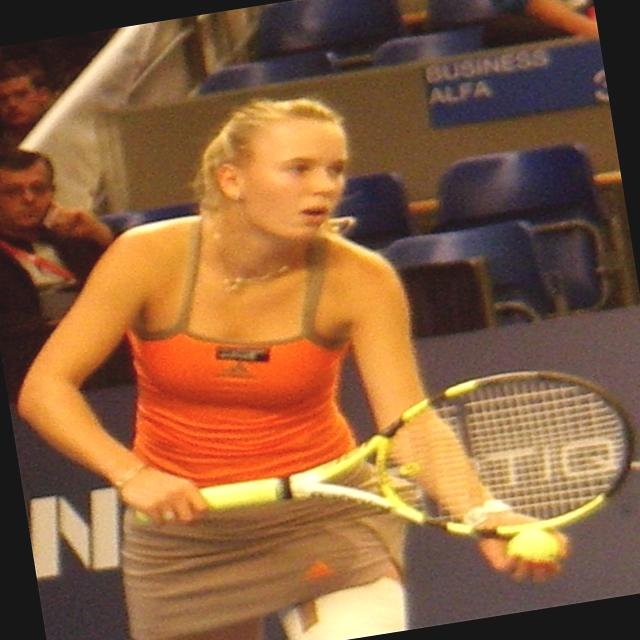Tennis Ball: (505, 526, 558, 564)
